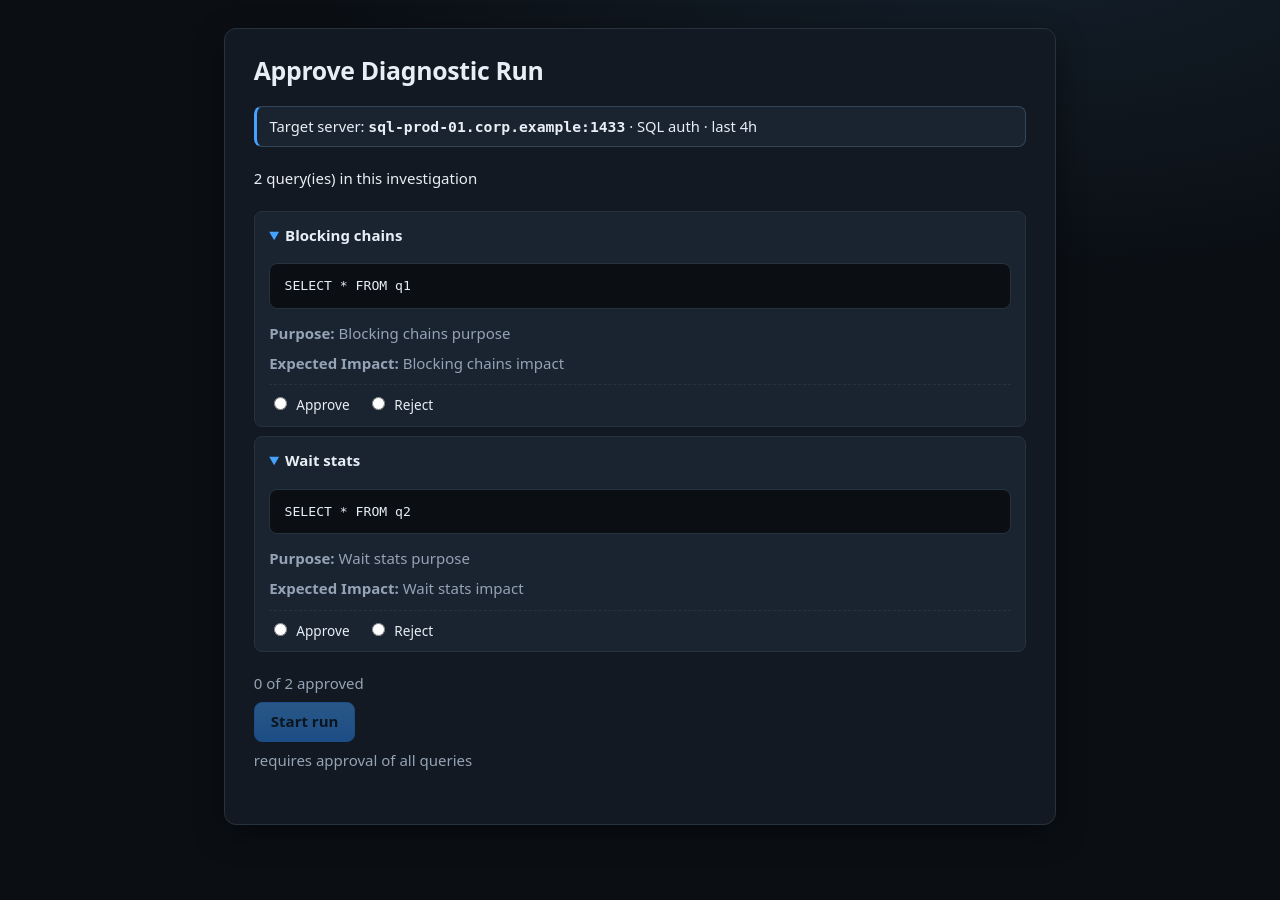
Test case: ApprovalScreen › keeps Start run disabled until every query is approved
This screenshot has width=1280, height=900.
Expected: the text "Blocking chains purpose" is shown, [339,323,510,343]
Expected: the button "Start run" is disabled, [254,702,355,742]
Click the radio button labelled "Approve" below "Blocking chains impact".
click(281, 404)  # box [274,398,287,410]
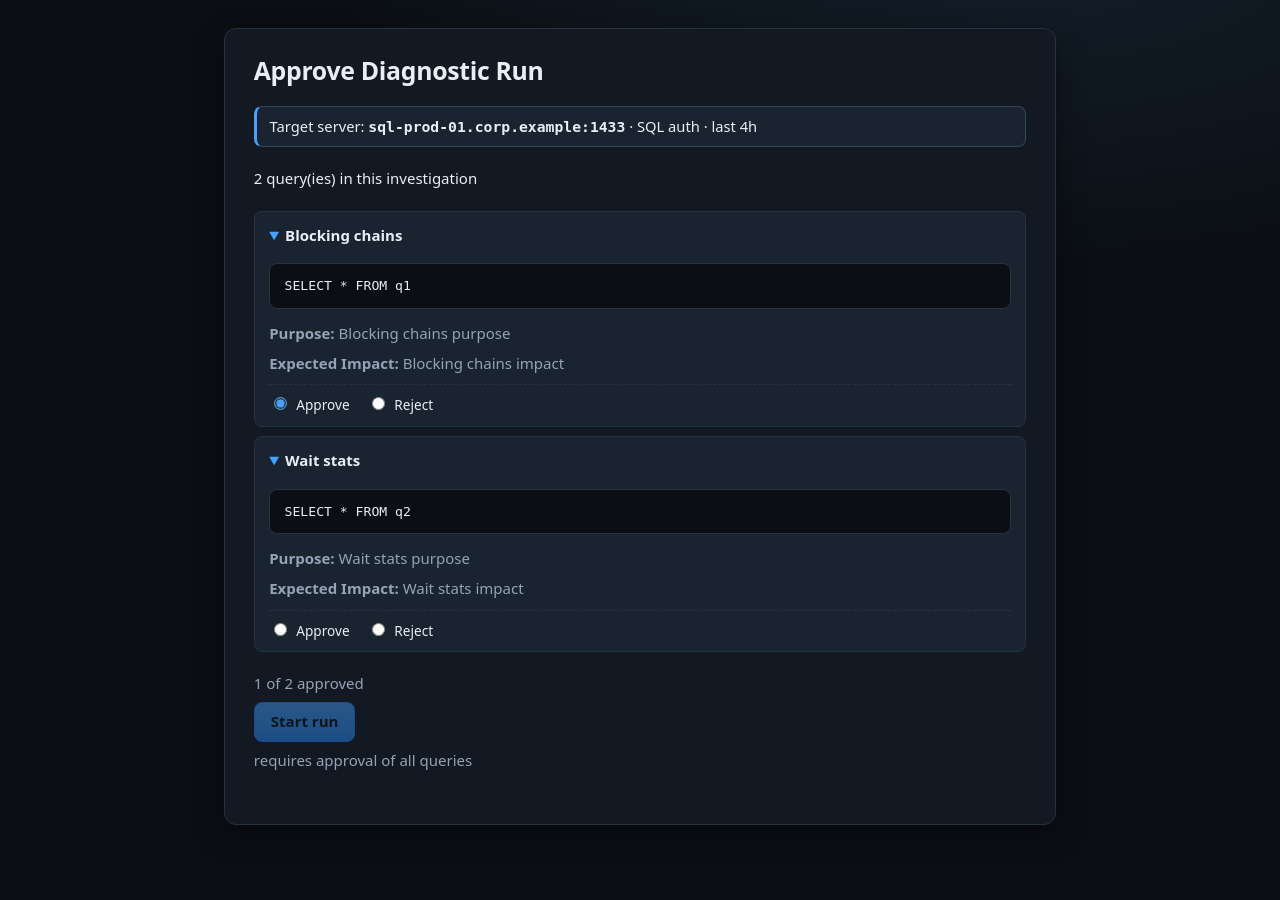
Expected: the button "Start run" is disabled, [254,702,355,742]
Result: the text "1 of 2 approved" is shown at [254,673,364,693]
Click the radio button labelled "Approve" below "Wait stats impact".
click(281, 629)  # box [274,623,287,636]
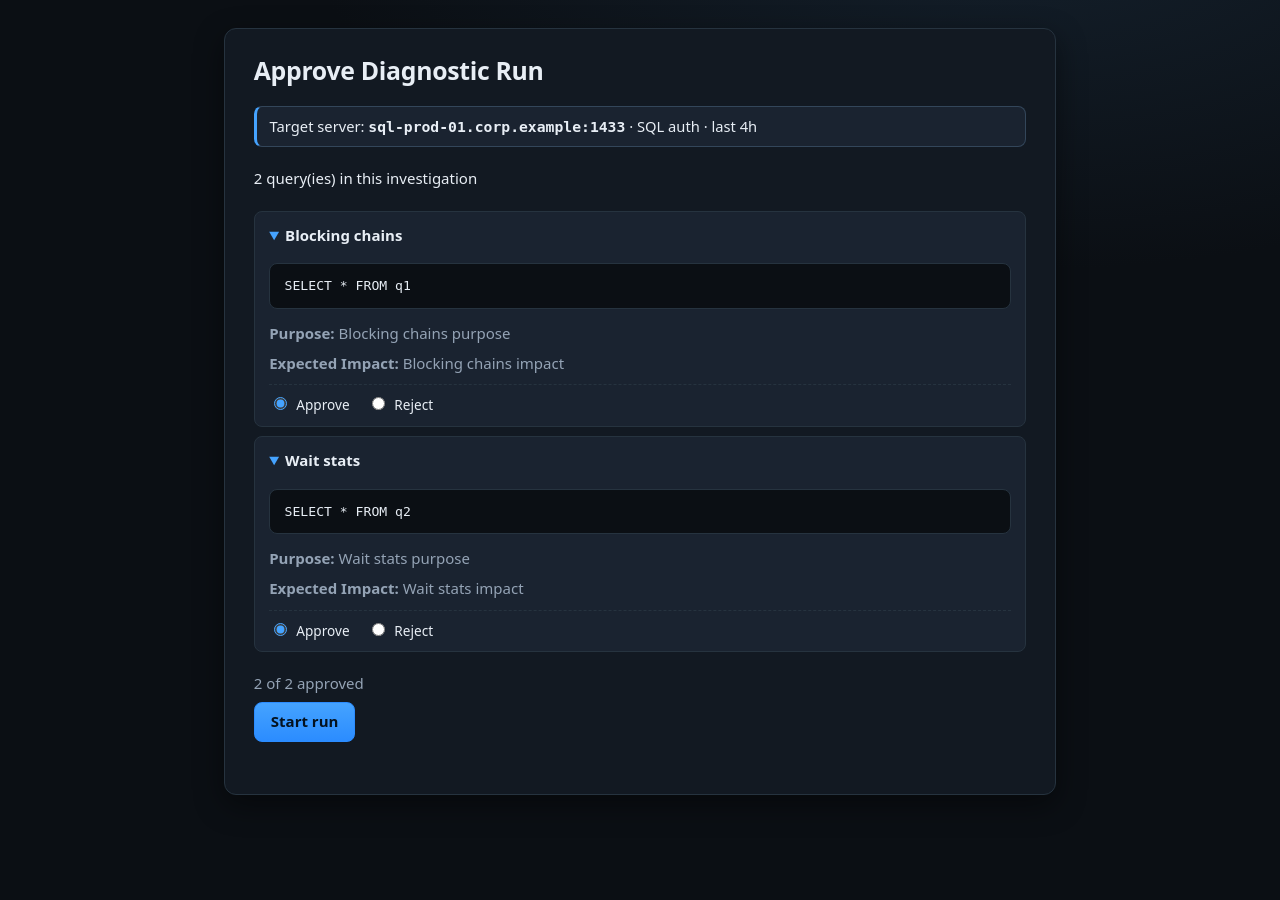
Result: the text "2 of 2 approved" is shown at [254,673,364,693]
Result: the button "Start run" is enabled at [254,702,355,742]
